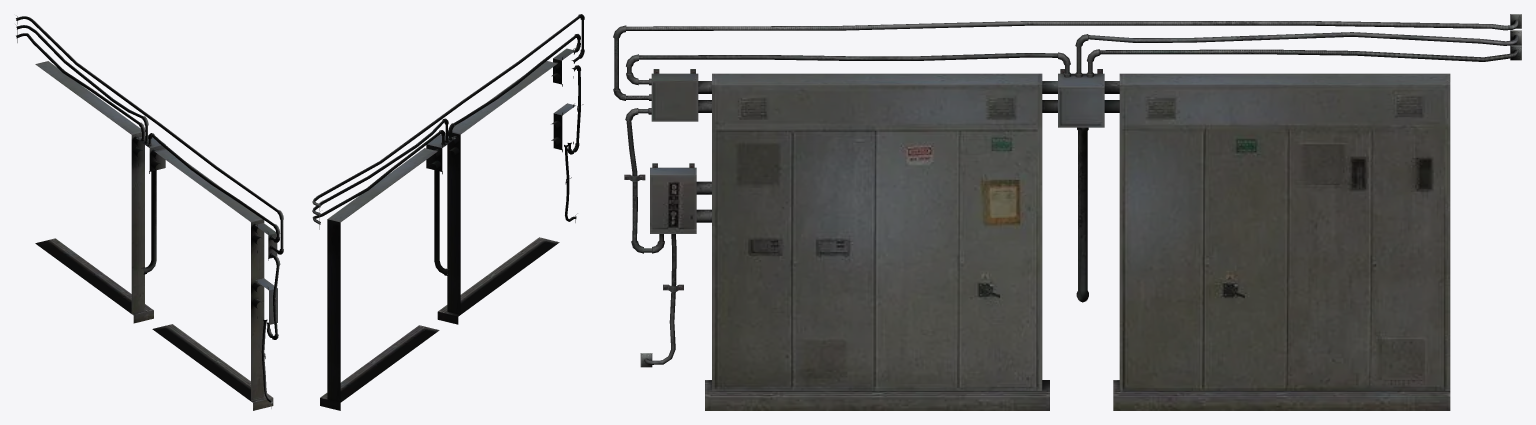
The model's file is electricalbox01.glb.
3 views of the same model, side by side, from view 1: azimuth 30°, elevation 25°; view 2: azimuth 150°, elevation 25°; view 3: azimuth 270°, elevation 25° (orthographic). The views are drawn at different scales.
Visible parts, largest first — view 1: 0_ElectricalBox01; view 2: 0_ElectricalBox01; view 3: 0_ElectricalBox01.
Part boxes in pixels (x1=…): 0_ElectricalBox01: x1=15, y1=15, x2=283, y2=410; 0_ElectricalBox01: x1=312, y1=14, x2=584, y2=410; 0_ElectricalBox01: x1=613, y1=14, x2=1521, y2=410.
Bounding box in the file's own units: 0.3178 × 3.24 × 7.03.
1 material, 1 textured.
